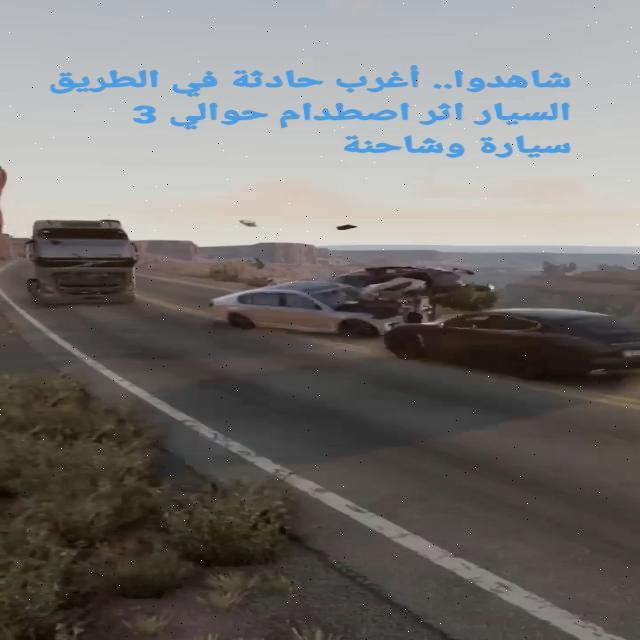accident: (201, 257, 501, 339)
